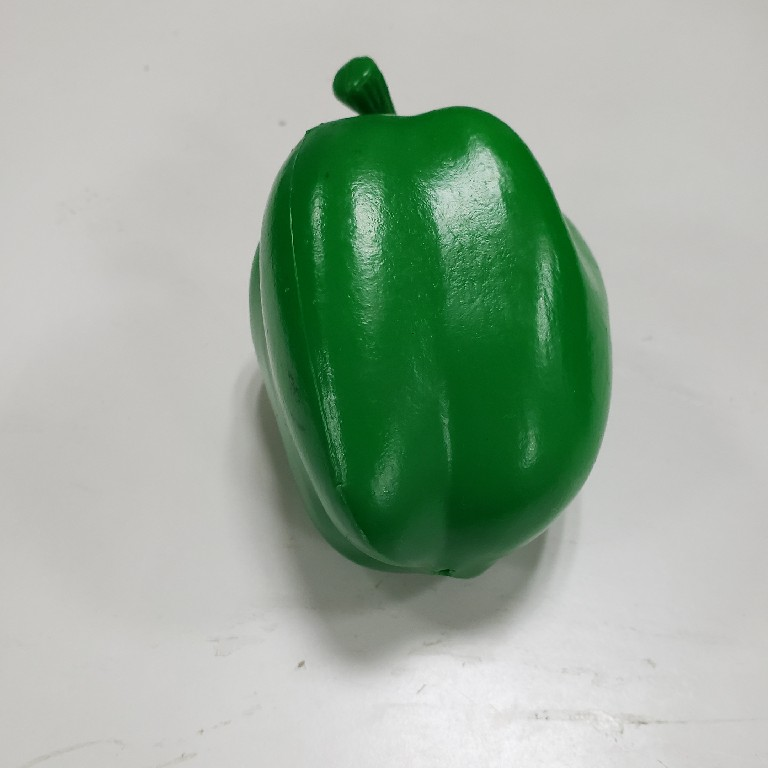fruit_pepper: (245, 51, 617, 584)
